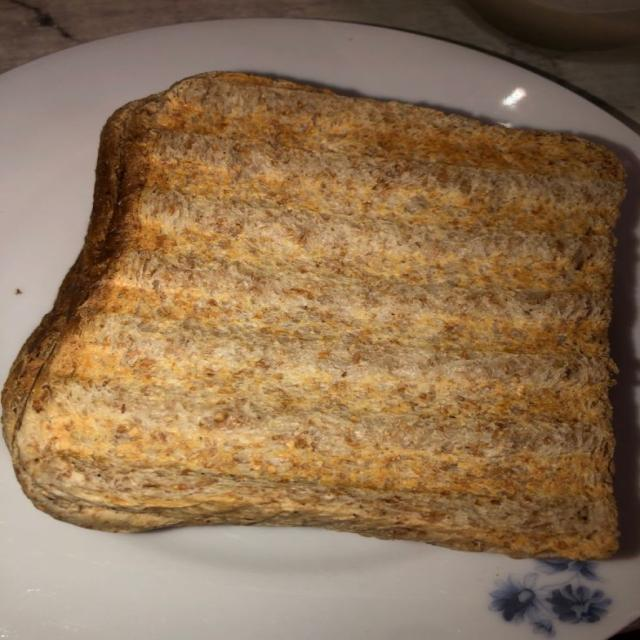toast bread: (2, 72, 624, 563)
